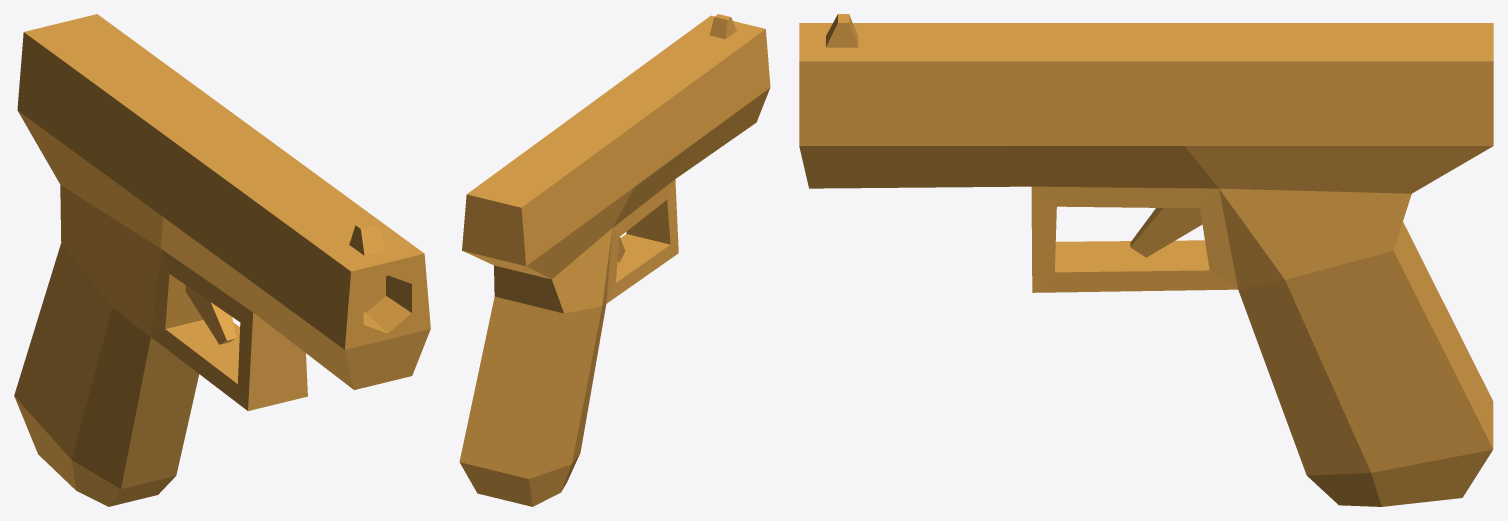
The model's file is weapons-pistol.glb.
3 views of the same model, side by side, from view 1: azimuth 30°, elevation 25°; view 2: azimuth 150°, elevation 25°; view 3: azimuth 270°, elevation 25° (orthographic). The views are drawn at different scales.
Visible parts, largest first — view 1: pistol; view 2: pistol; view 3: pistol.
Boxes of the visible parts, x1,y1,x2,y2 form: pistol: (14, 14, 430, 506); pistol: (459, 14, 770, 506); pistol: (799, 14, 1493, 506).
Bounding box in the file's own units: 0.0304 × 0.1393 × 0.185.
